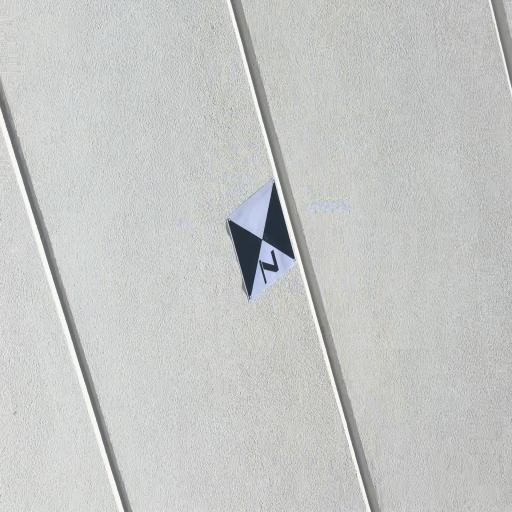target7: (227, 175, 297, 302)
